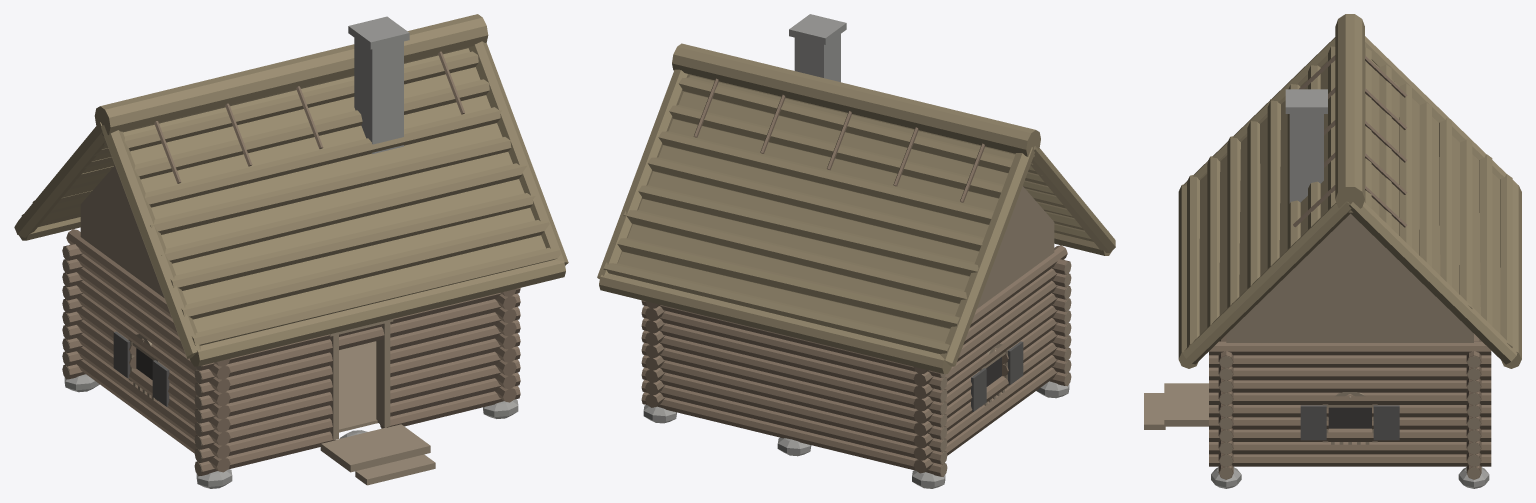
File: IzbaB.fbx
3 views of the same model, side by side, from view 1: azimuth 30°, elevation 25°; view 2: azimuth 150°, elevation 25°; view 3: azimuth 270°, elevation 25° (orthographic). The views are drawn at different scales.
Parts seen in each view (by area): view 1: IzbaB; view 2: IzbaB; view 3: IzbaB.
Boxes of the visible parts, box(x1,y1,x2,y2) form: IzbaB: box(14, 14, 568, 488); IzbaB: box(597, 14, 1115, 488); IzbaB: box(1144, 14, 1521, 488).
Size of the model in its own units: 666 by 626 by 610.
